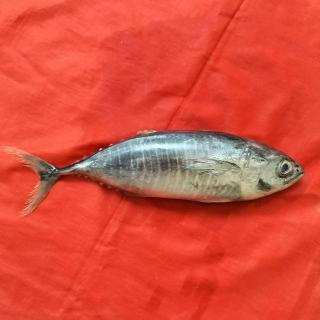Ikan: (1, 119, 311, 230)
